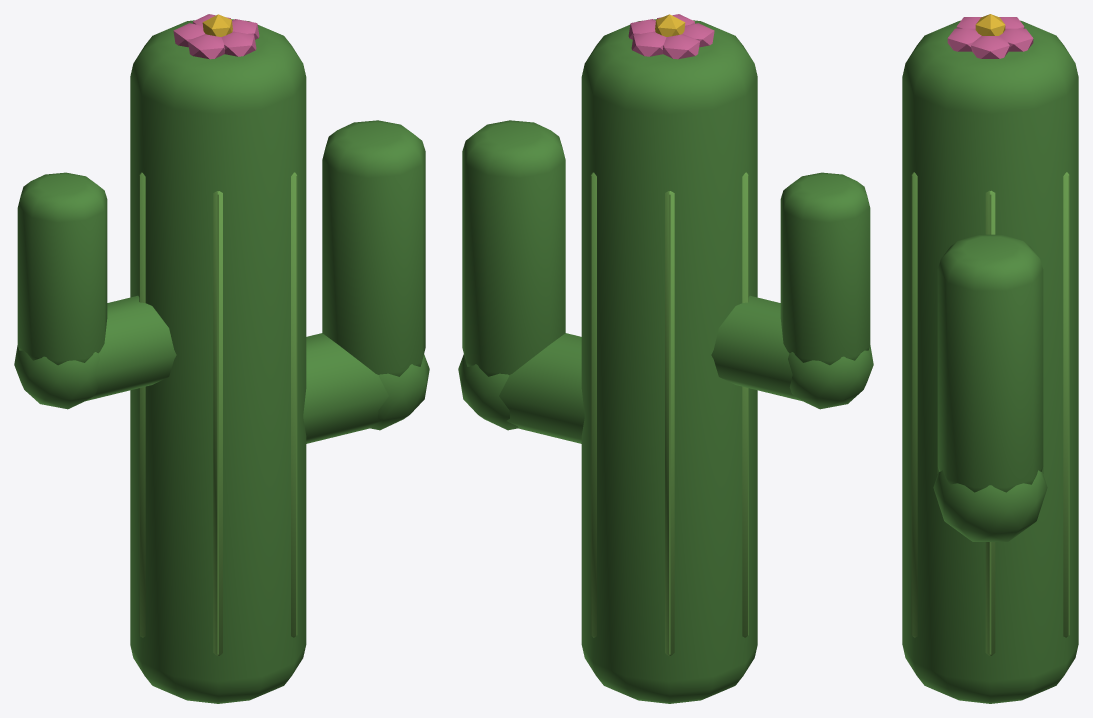
The model's file is p_tree_cactus_1.glb.
The picture shows the model from 3 angles, left to right: view 1: azimuth 30°, elevation 25°; view 2: azimuth 150°, elevation 25°; view 3: azimuth 270°, elevation 25°; orthographic projection.
Visible parts, largest first — view 1: body; view 2: body; view 3: body.
Boxes of the visible parts, x1,y1,x2,y2 form: body: (14, 14, 429, 703); body: (458, 14, 873, 703); body: (902, 14, 1078, 703).
Size of the model in its own units: 2.62 by 4.17 by 1.
